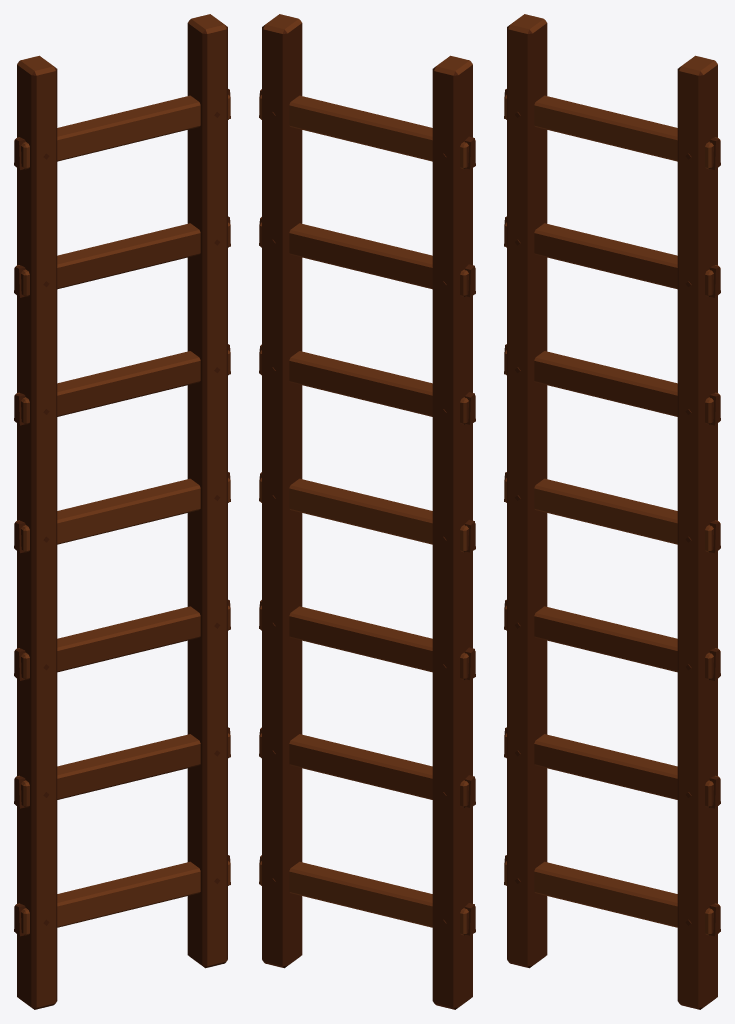
Rendered from Wooden Mine Ladder.obj.
3 renders of one model, left to right at view 1: azimuth 30°, elevation 25°; view 2: azimuth 150°, elevation 25°; view 3: azimuth 330°, elevation 25°, orthographic.
Visible parts, largest first — view 1: Wooden_Mine_Ladder.Static; view 2: Wooden_Mine_Ladder.Static; view 3: Wooden_Mine_Ladder.Static.
Part boxes in pixels (x1,y1,x2,y2): Wooden_Mine_Ladder.Static: (14, 14, 230, 1009); Wooden_Mine_Ladder.Static: (259, 14, 475, 1009); Wooden_Mine_Ladder.Static: (504, 14, 720, 1009).
Bounding box in the file's own units: 0.588 × 2.5 × 0.093.
